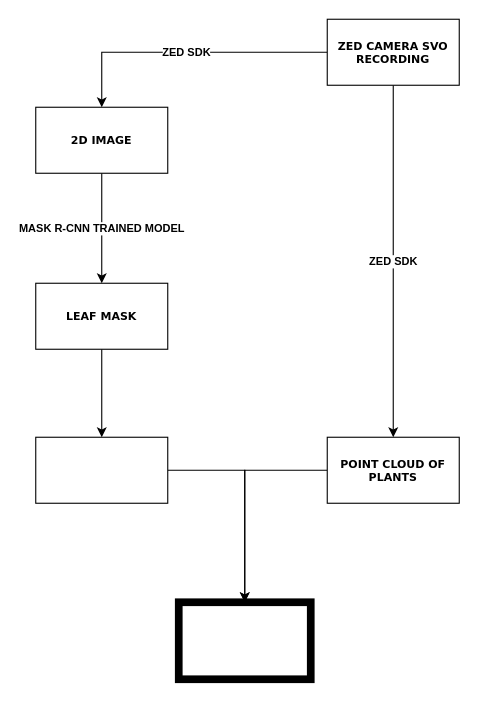
Some shapes in this 479 by 702 pixel diagram are drawn without their labels. The shapes that lost their labels are listed below. From the top down, each one's centre as x and y in pixels, then its label:
At (101,469): "SCALED LEAF MASK".
At (244,640): "POINT CLOUD OF LEAF".
